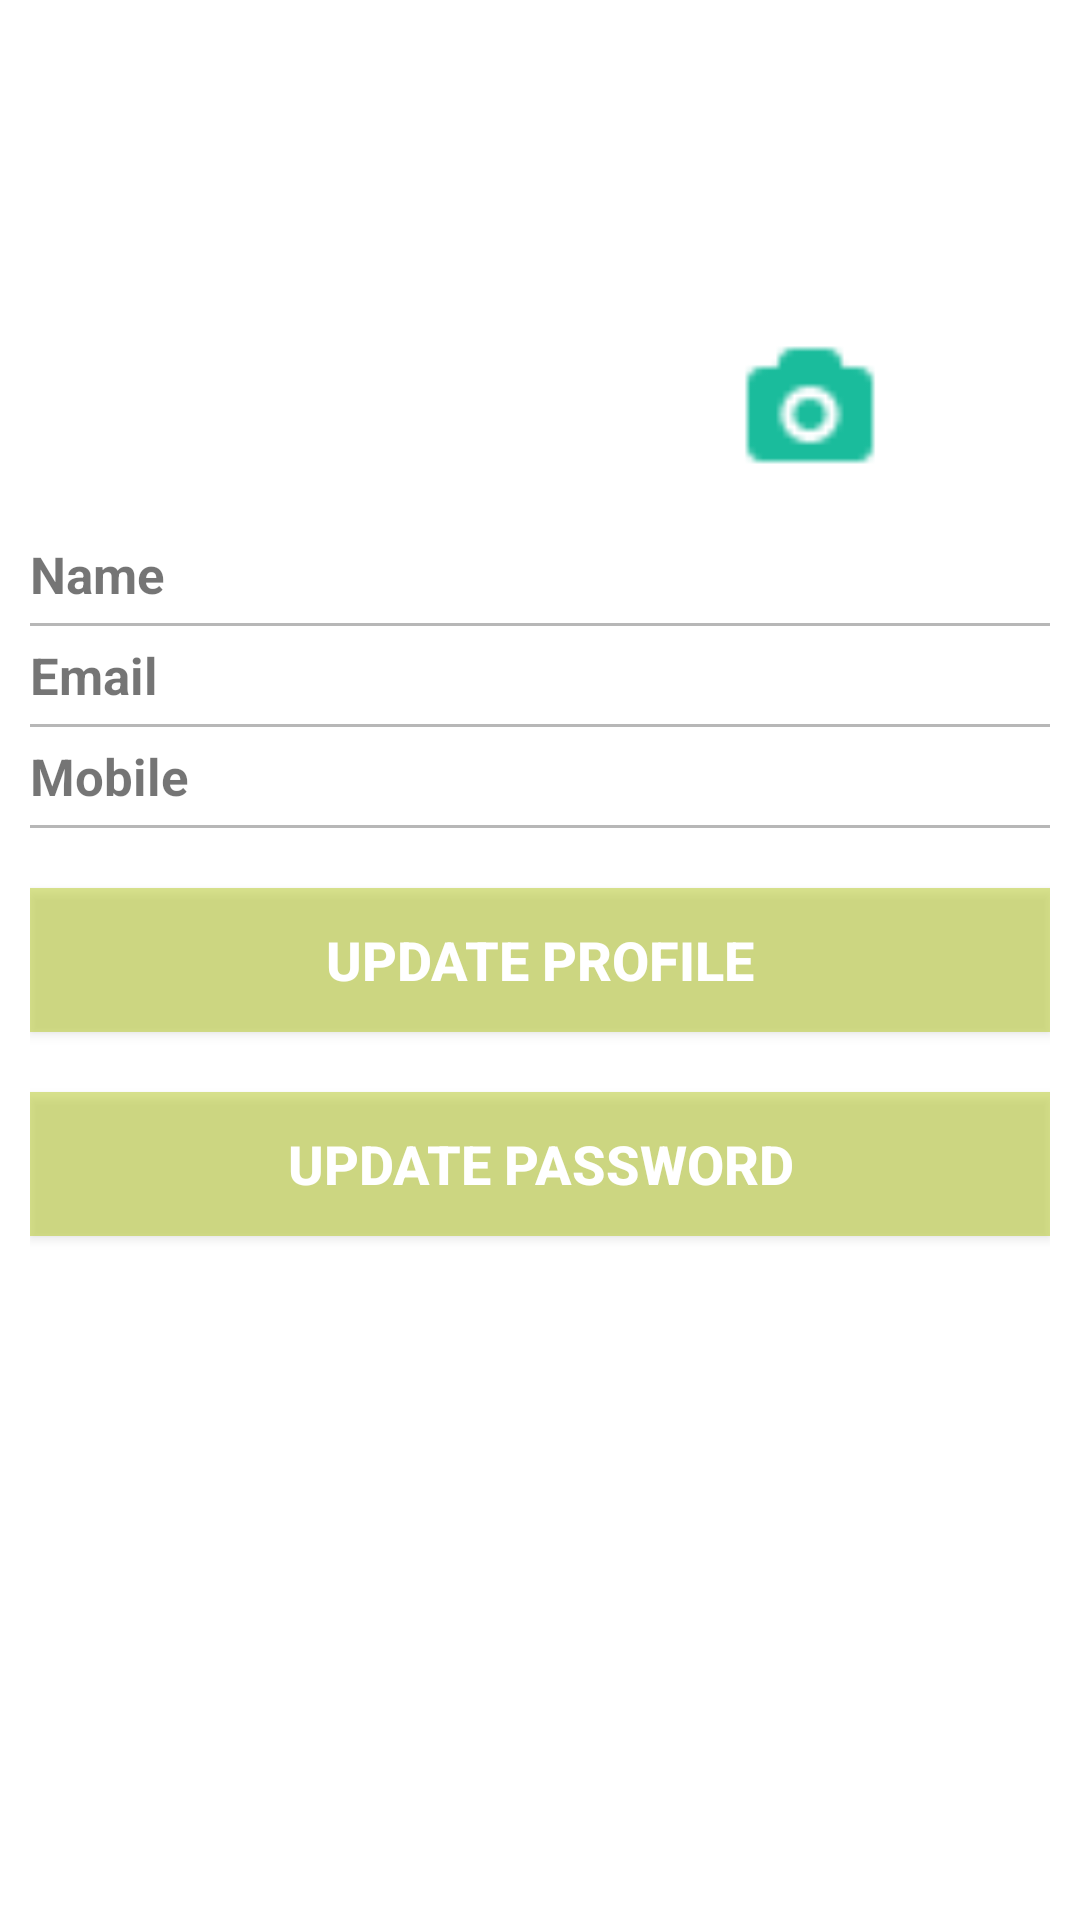

Screen size 1080 x 1920. Icon name, then its box in pixels as (x1, y1, x2, y2):
camera: (745, 346, 875, 464)
